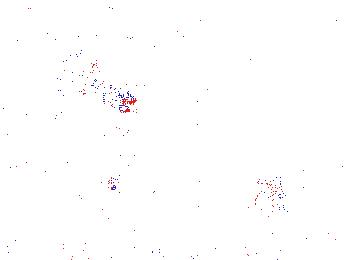flame jellyfish: (48, 45, 137, 114), (90, 126, 140, 191), (253, 162, 323, 207)
